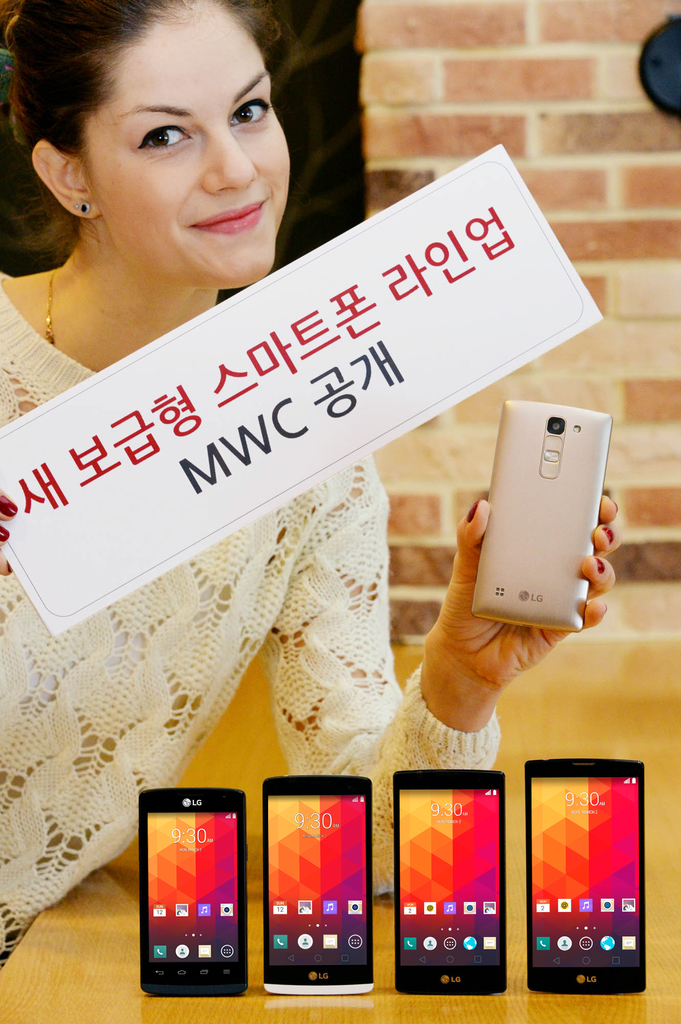Mobile-phone: (472, 405, 615, 638), (522, 755, 646, 995), (391, 771, 508, 996), (259, 774, 374, 996), (136, 784, 250, 996)
